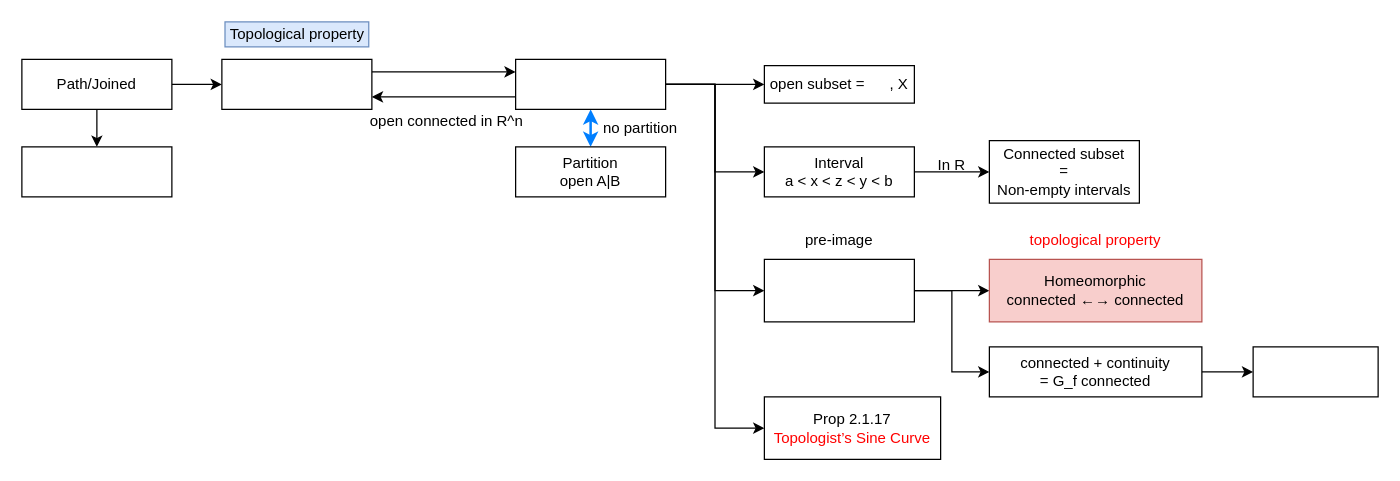
The diagram is 1400 pixels wide and 481 high, and some of its shapes have lost their labels. The centre of each missing label's shape, as x and y in pixels:
Connected surjective W → {0,1}: [590,83]
Continuity presrves Connectedness: [838,290]
eq. relation ( points): [96,171]
Intermediate Value Thm: [1315,371]
Path-connected: [296,83]
